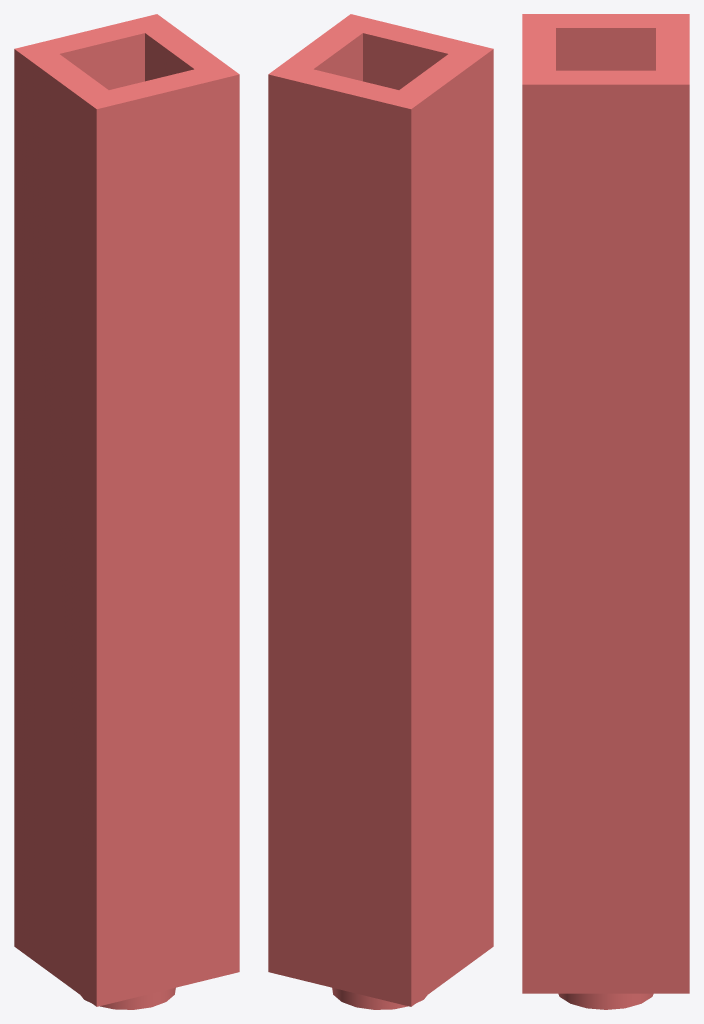
The picture shows the model from 3 angles, left to right: view 1: azimuth 30°, elevation 25°; view 2: azimuth 150°, elevation 25°; view 3: azimuth 270°, elevation 25°; orthographic projection.
Parts seen in each view (by area): view 1: LDrawPart; view 2: LDrawPart; view 3: LDrawPart.
Part boxes in pixels (bbox=[...]): LDrawPart: bbox=[14, 14, 239, 1009]; LDrawPart: bbox=[268, 14, 493, 1009]; LDrawPart: bbox=[522, 14, 689, 1009].
Bounding box in the file's own units: 0.14 × 0.868 × 0.14.
